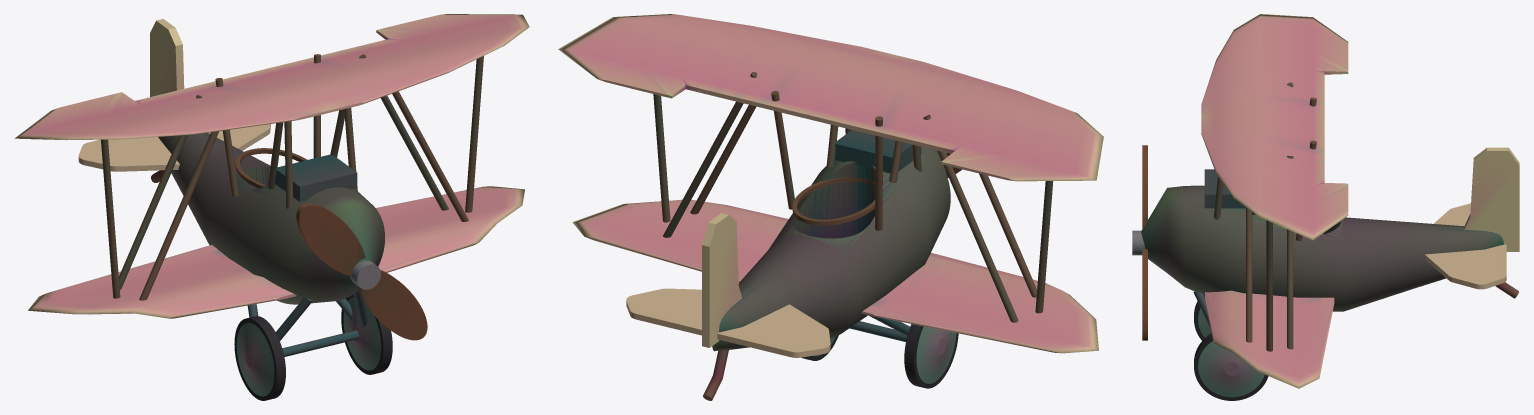
The picture shows the model from 3 angles, left to right: view 1: azimuth 30°, elevation 25°; view 2: azimuth 150°, elevation 25°; view 3: azimuth 270°, elevation 25°; orthographic projection. The views are drawn at different scales.
Parts seen in each view (by area): view 1: upper_wing, lower_wing, body, tailplane, blade, blade.001, engine, fin, cover.001, cover.002, tire, front_diagonal (+13 smaller); view 2: upper_wing, body, lower_wing, tailplane, fin, engine, cover.001, rear_diagonal, rear_diagonal.001, surround, outer, front_diagonal (+6 smaller); view 3: upper_wing, body, lower_wing, fin, tailplane, cover.003, front_diagonal.001, outer.001, rear_diagonal.001, engine, tire.001, blade.001 (+1 smaller).
Boxes of the visible parts, bbox=[...] form: upper_wing: bbox=[14, 14, 529, 140]; lower_wing: bbox=[28, 186, 524, 318]; body: bbox=[158, 133, 384, 304]; tailplane: bbox=[78, 124, 270, 171]; blade: bbox=[296, 203, 365, 275]; blade.001: bbox=[358, 270, 427, 340]; engine: bbox=[274, 154, 357, 201]; fin: bbox=[150, 19, 184, 96]; cover.001: bbox=[236, 322, 274, 396]; cover.002: bbox=[343, 297, 381, 370]; tire: bbox=[234, 316, 285, 400]; front_diagonal: bbox=[139, 131, 218, 300]; upper_wing: bbox=[558, 14, 1103, 181]; body: bbox=[712, 147, 950, 351]; lower_wing: bbox=[572, 199, 1098, 353]; tailplane: bbox=[626, 288, 830, 357]; fin: bbox=[702, 213, 741, 347]; engine: bbox=[835, 130, 921, 173]; cover.001: bbox=[916, 326, 956, 383]; rear_diagonal: bbox=[923, 114, 1018, 322]; rear_diagonal.001: bbox=[663, 72, 757, 237]; surround: bbox=[792, 177, 875, 225]; outer: bbox=[1035, 181, 1053, 313]; front_diagonal: bbox=[979, 173, 1036, 297]; upper_wing: bbox=[1201, 14, 1348, 240]; body: bbox=[1141, 185, 1503, 311]; lower_wing: bbox=[1205, 290, 1334, 388]; fin: bbox=[1464, 147, 1519, 251]; tailplane: bbox=[1425, 203, 1506, 289]; cover.003: bbox=[1198, 341, 1264, 397]; front_diagonal.001: bbox=[1246, 207, 1252, 342]; outer.001: bbox=[1266, 220, 1272, 351]; rear_diagonal.001: bbox=[1287, 156, 1293, 349]; engine: bbox=[1204, 169, 1245, 208]; tire.001: bbox=[1194, 333, 1268, 400]; blade.001: bbox=[1142, 248, 1147, 340].
Bounding box in the file's own units: 9 × 4.94 × 6.6.
